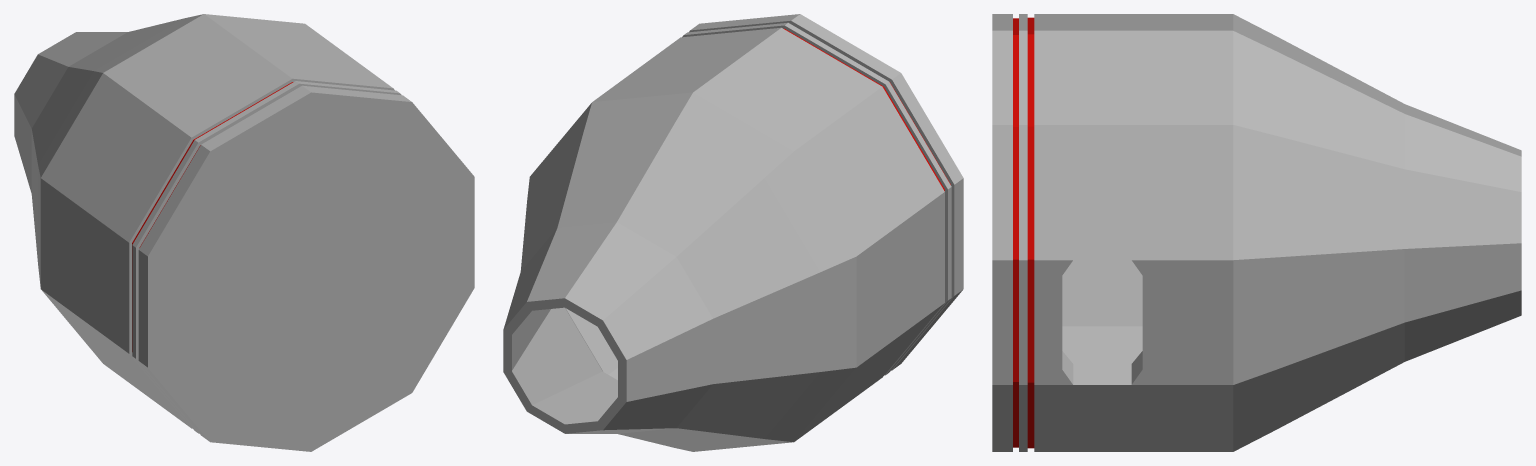
Rendered from Forge_model.fbx.
The picture shows the model from 3 angles, left to right: view 1: azimuth 30°, elevation 25°; view 2: azimuth 150°, elevation 25°; view 3: azimuth 270°, elevation 25°; orthographic projection. The views are drawn at different scales.
Visible parts, largest first — view 1: Cylinder; view 2: Cylinder; view 3: Cylinder.
Part boxes in pixels (bbox=[...]): Cylinder: bbox=[14, 14, 474, 451]; Cylinder: bbox=[503, 14, 963, 451]; Cylinder: bbox=[992, 14, 1521, 451].
Bounding box in the file's own units: 57063 × 60000 × 71197.
